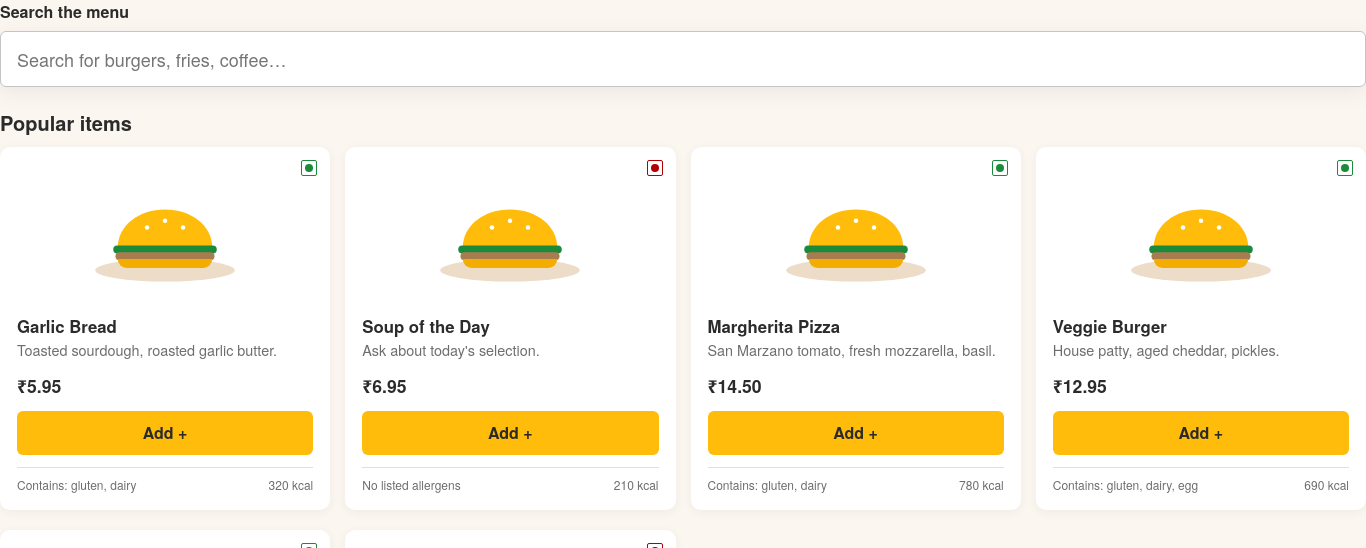
Test: SearchView › says when nothing matches
This screenshot has width=1366, height=548.
Type "zzzz" into the search field at (683, 59), box 0,31 -> 1365,87
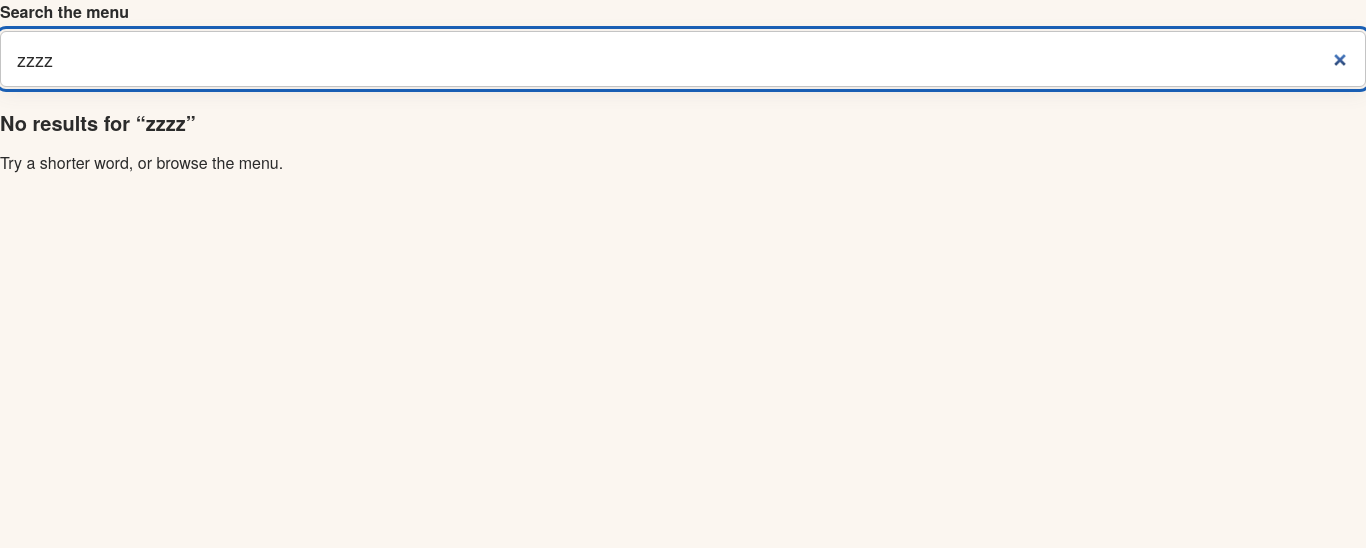
Now the heading "No results for “zzzz”" is shown, box 0,108 -> 196,137
